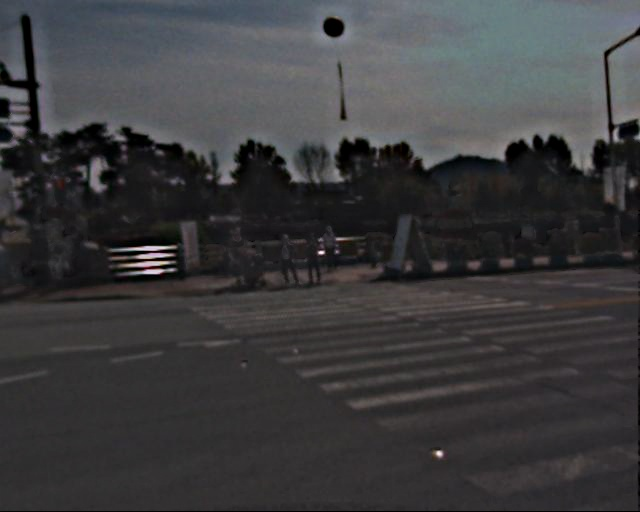person: (30, 226, 64, 289), (228, 226, 255, 291), (1, 227, 26, 293), (278, 228, 301, 285), (304, 230, 327, 286), (322, 222, 343, 272), (223, 228, 242, 275), (505, 229, 518, 261)
